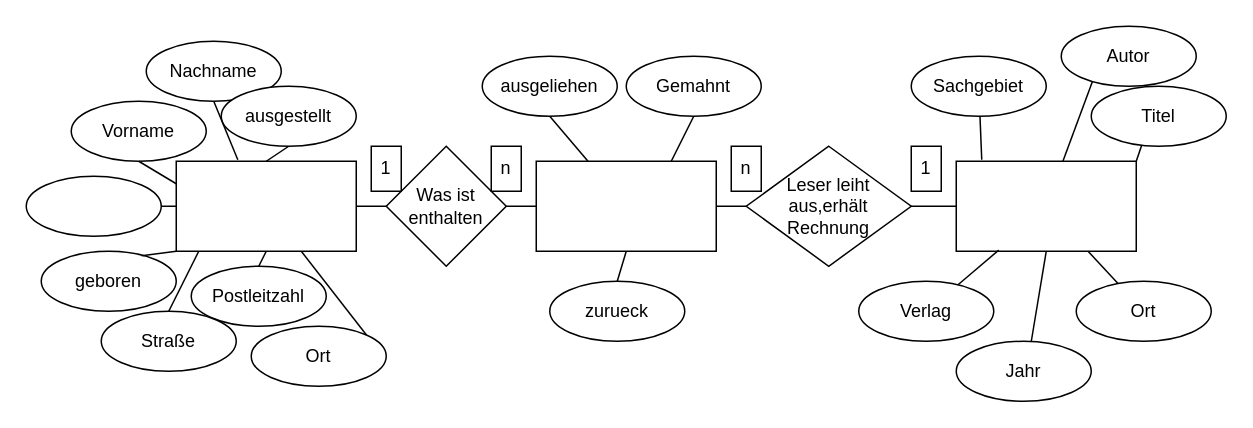
This 1253x428 diagram has some shape labels left out. Each missing label, with the centre of its shape:
Ausleihe: the point at 625,205
Buecher: the point at 1045,205
Geschlecht: the point at 93,205
Leser: the point at 265,205
